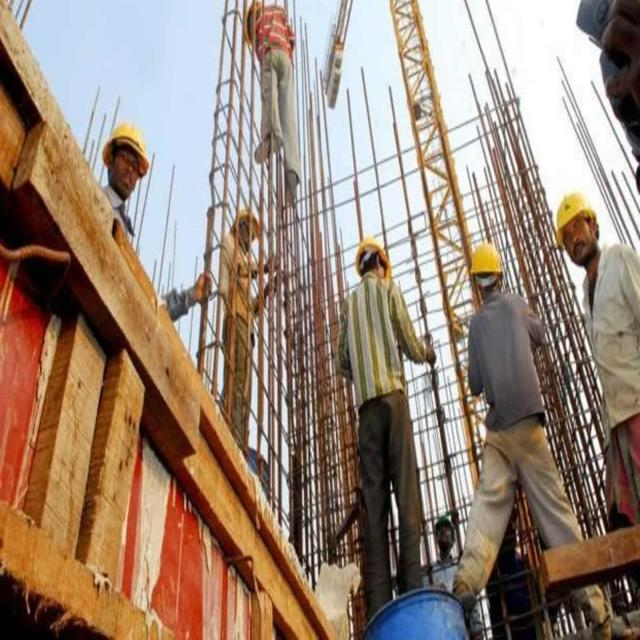Reflective-Jacket: (465, 297, 547, 441), (346, 277, 410, 414), (254, 4, 294, 74)
Safety-Helmet: (550, 179, 602, 249), (100, 114, 152, 170), (464, 231, 506, 288), (352, 227, 392, 273)
